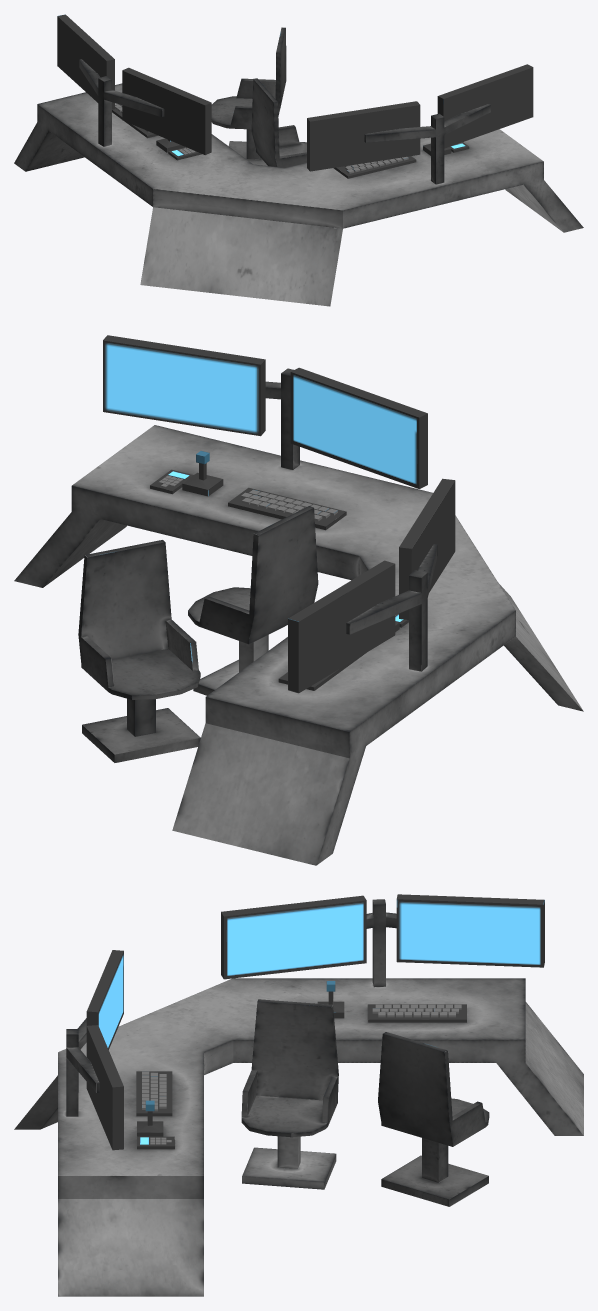
File: Desk.fbx
3 views of the same model, one above another, from view 1: azimuth 30°, elevation 25°; view 2: azimuth 150°, elevation 25°; view 3: azimuth 270°, elevation 25° (orthographic). The views are drawn at different scales.
Visible parts, largest first — view 1: workstation.003; view 2: workstation.003; view 3: workstation.003.
Boxes of the visible parts, x1=… form: workstation.003: x1=14, y1=14, x2=583, y2=306; workstation.003: x1=14, y1=335, x2=583, y2=865; workstation.003: x1=14, y1=894, x2=583, y2=1296.
Bounding box in the file's own units: 390 × 145 × 390.
